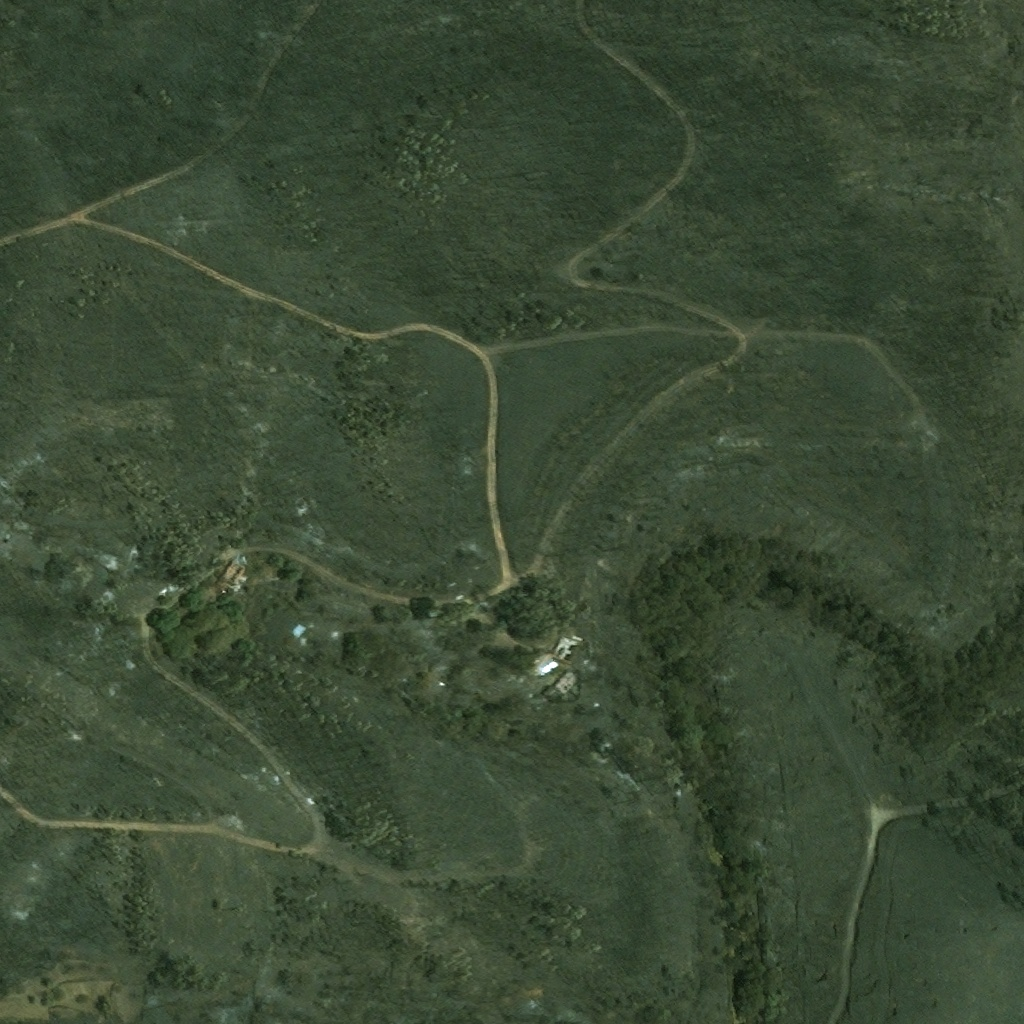3 destroyed: (218, 559, 245, 588), (554, 633, 581, 659), (287, 625, 303, 640)
